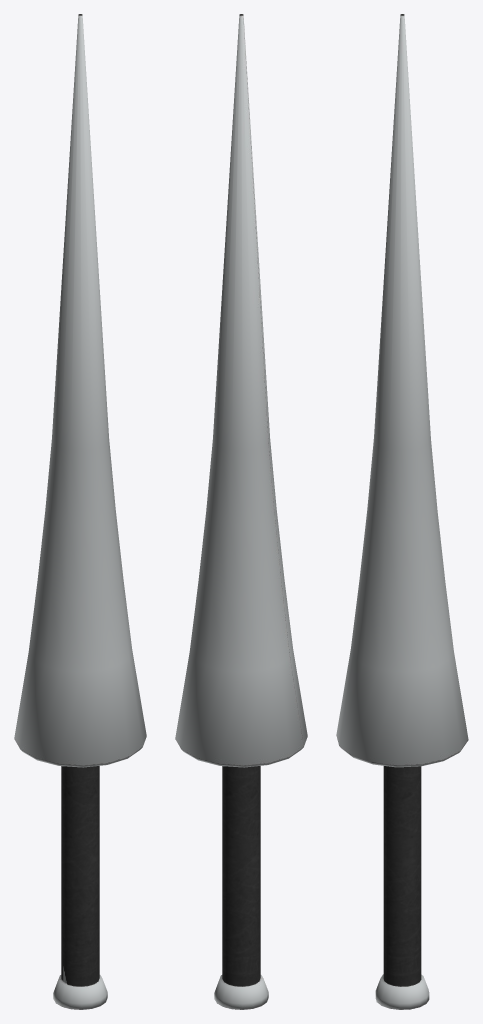
File: LANZA_LOW.fbx
3 renders of one model, left to right at view 1: azimuth 30°, elevation 25°; view 2: azimuth 210°, elevation 25°; view 3: azimuth 270°, elevation 25°, orthographic.
Visible parts, largest first — view 1: lanza_low; view 2: lanza_low; view 3: lanza_low.
Boxes of the visible parts, x1,y1,x2,y2 form: lanza_low: (14, 14, 146, 1009); lanza_low: (175, 14, 307, 1009); lanza_low: (336, 14, 468, 1009).
Size of the model in its own units: 14.58 by 14.58 by 120.
Materials: 1 (1 with a texture image).
